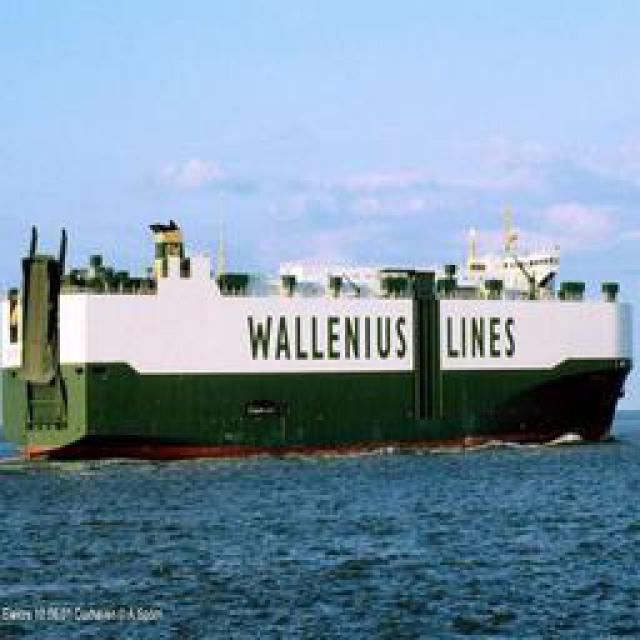Ship: (8, 235, 633, 475)
